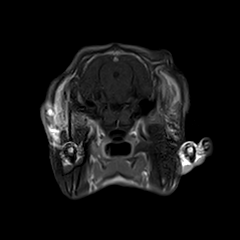Brain: (68, 27, 167, 125)
